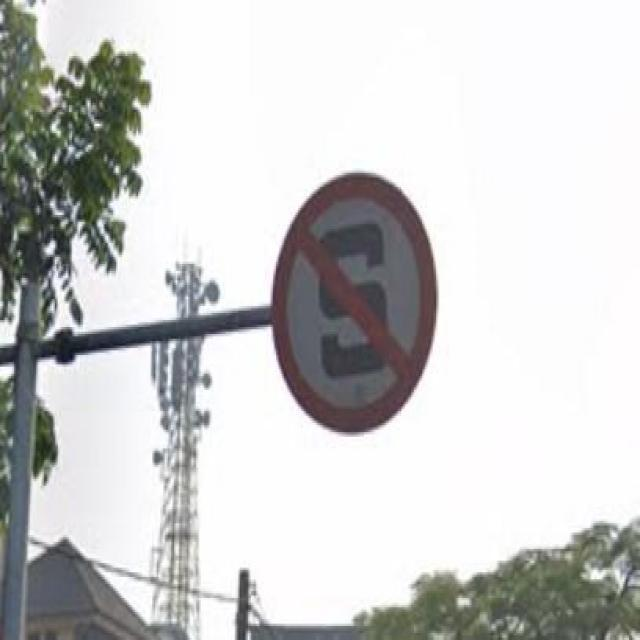traffic sign: (272, 168, 440, 437)
